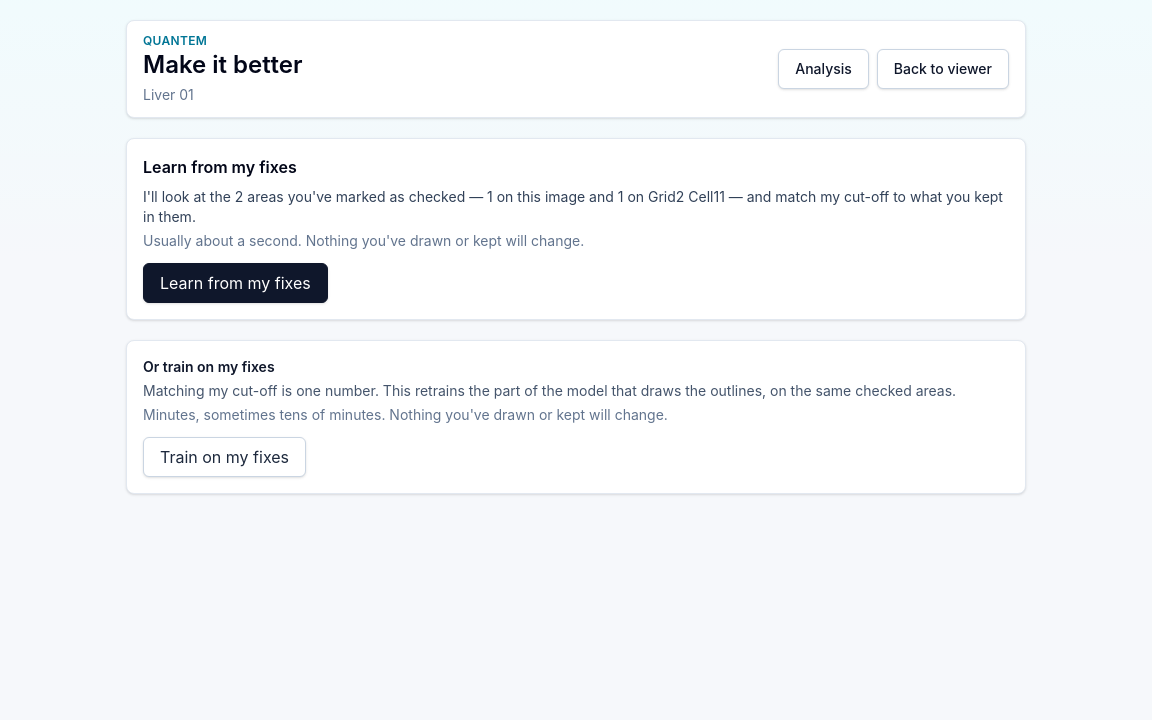
Scenario: ImprovePanel › keeps every sentence of the statistics layer, one click away
This screenshot has width=1152, height=720.
Click the button with test id "learn-from-my-fixes": (235, 283) [143,263,328,303]
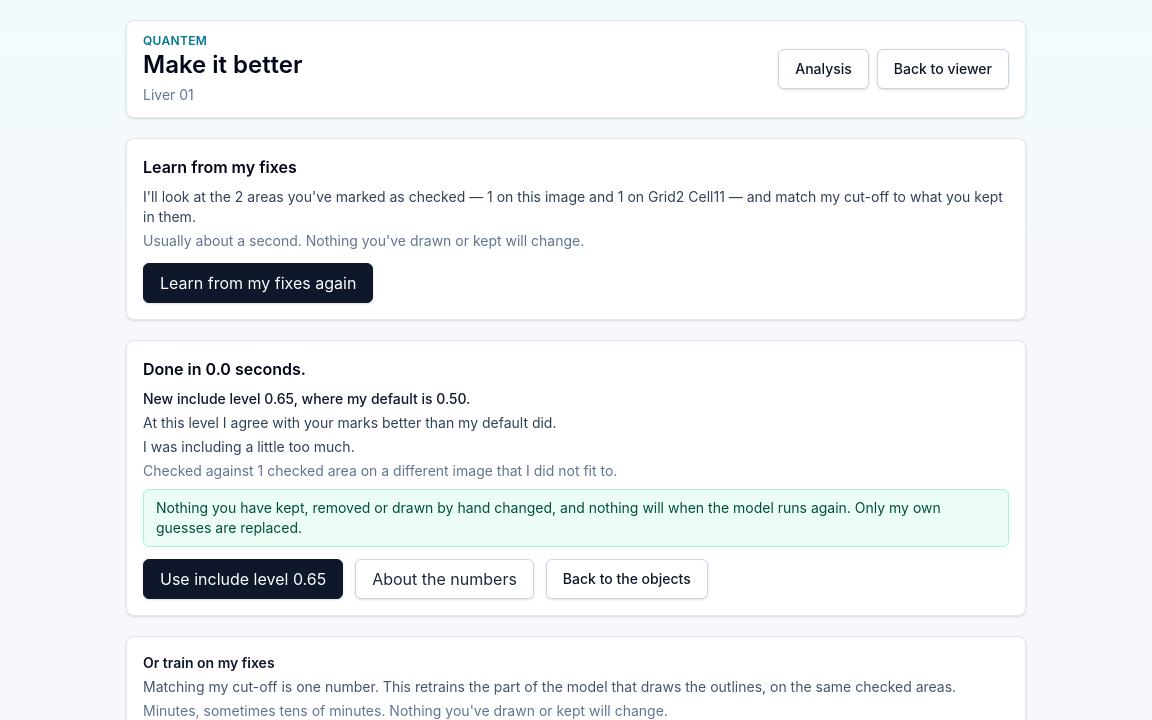
Now the element with test id "improve-result" is shown, box [126,340,1026,616]
Click the button with test id "about-the-numbers": (445, 579) [355,559,534,599]
(page scrolled)
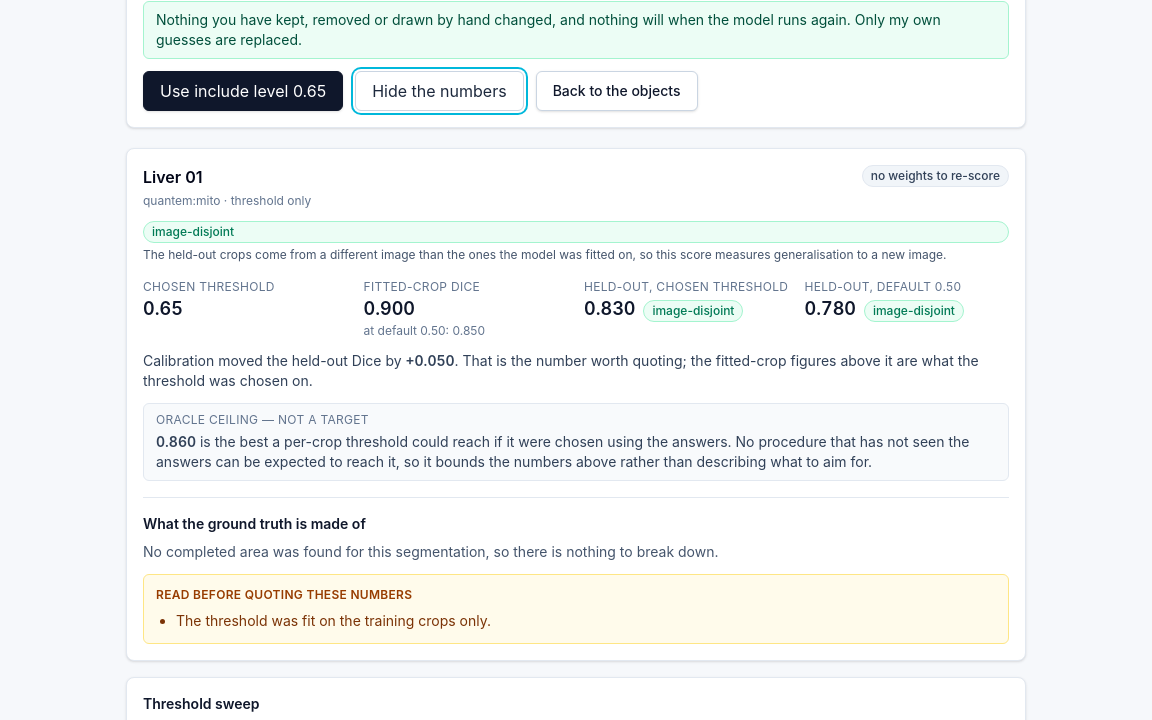
Now the text "Oracle ceiling — not a target" is shown, box [156,412,369,427]
Now the text "Held-out, chosen threshold" is shown, box [584,279,788,295]
Now the 1st text "image-disjoint" is shown, box [143,221,1009,243]
